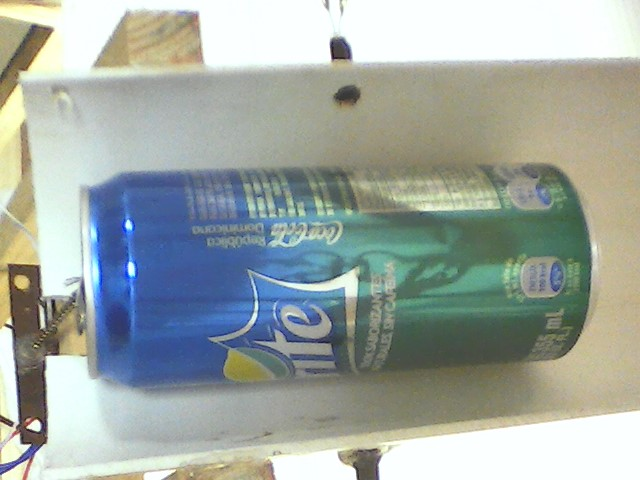lata: (77, 161, 603, 392)
